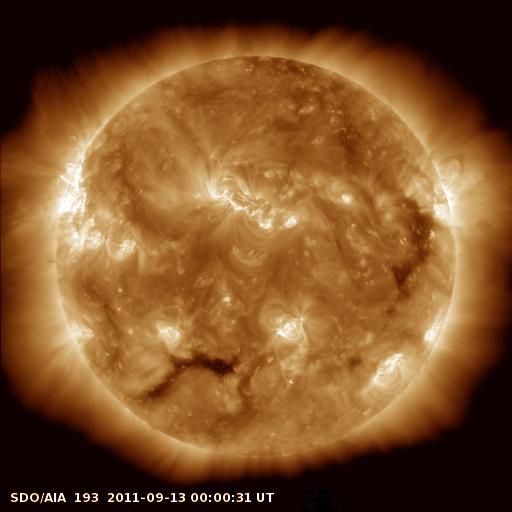coronal_hole: (143, 351, 242, 403)
